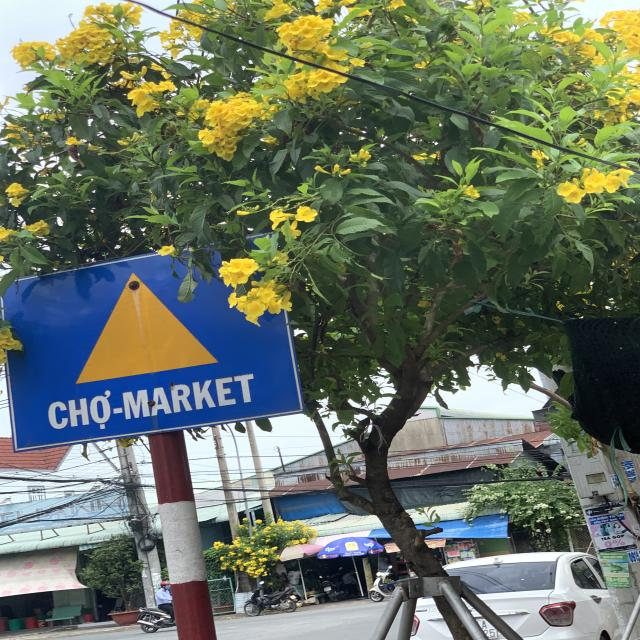Cho_Quay_Xe: (7, 250, 311, 452)
